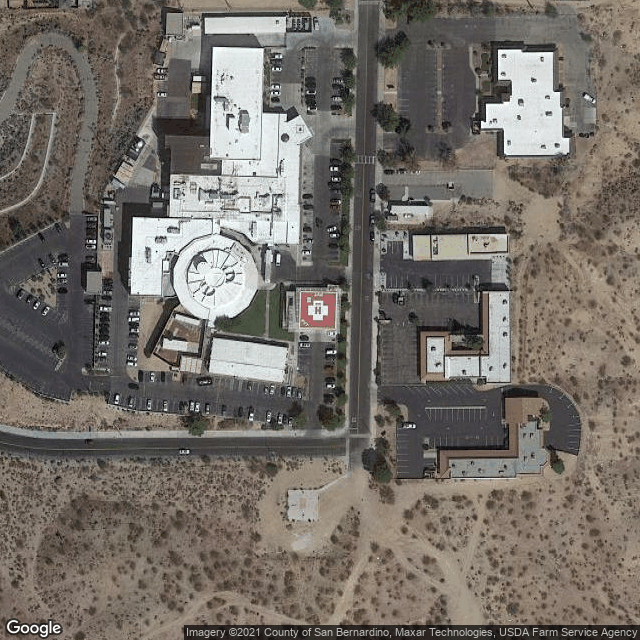Helipad: (298, 287, 337, 332)
